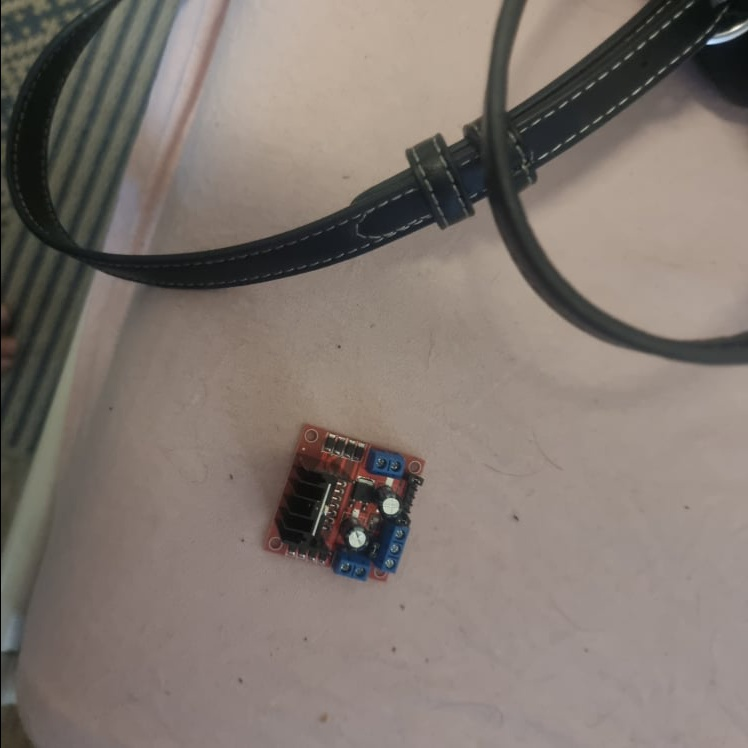MOTOR: (259, 421, 426, 585)
